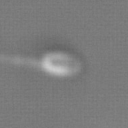abnormal: (1, 51, 41, 72)
